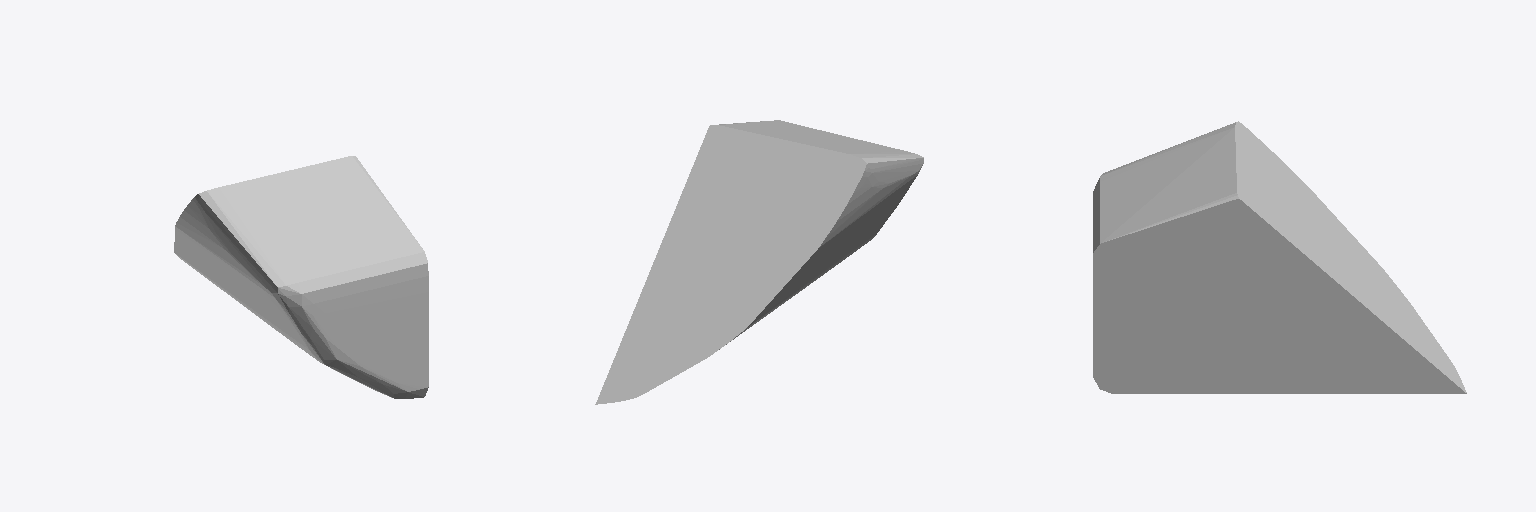
The model's file is Carbon_Mov_Finger_021_v1_1_mesh_collision_5.obj.
The picture shows the model from 3 angles: view 1: azimuth 30°, elevation 25°; view 2: azimuth 150°, elevation 25°; view 3: azimuth 270°, elevation 25°; orthographic projection.
Bounding box in the file's own units: 0.0033 × 0.0039 × 0.0067.